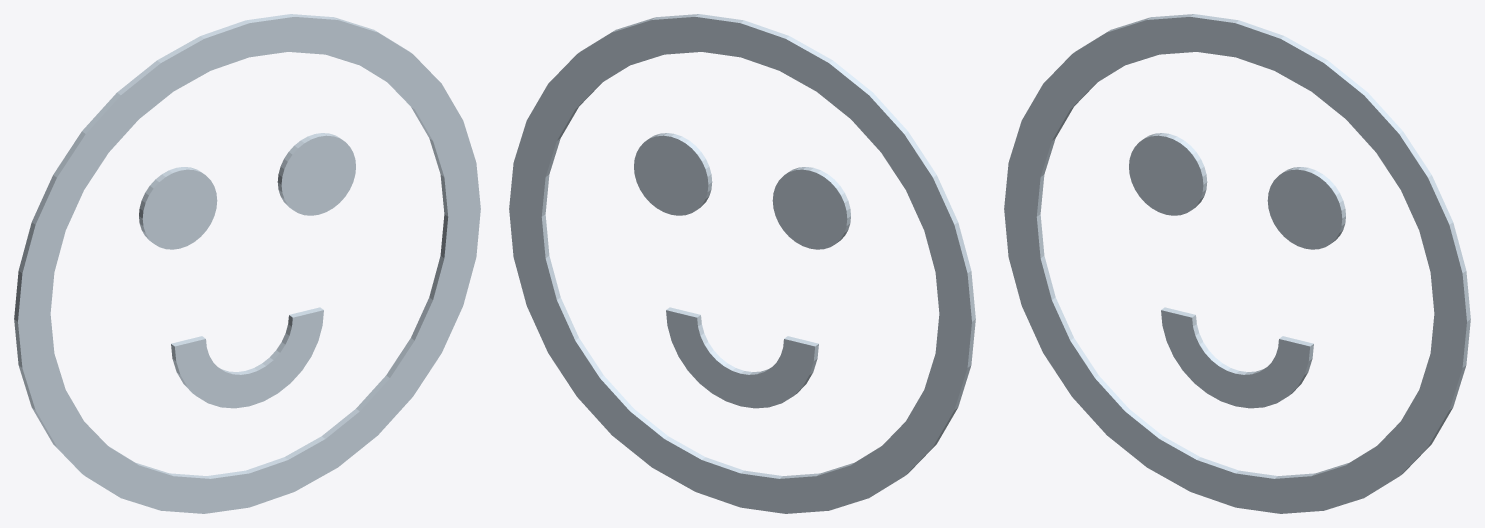
File: Happy_Face_3D_Icon_04.fbx
3 views of the same model, side by side, from view 1: azimuth 30°, elevation 25°; view 2: azimuth 150°, elevation 25°; view 3: azimuth 330°, elevation 25° (orthographic).
Visible parts, largest first — view 1: Happy_Face_3D_Icon_04; view 2: Happy_Face_3D_Icon_04; view 3: Happy_Face_3D_Icon_04.
Part boxes in pixels (x1=…): Happy_Face_3D_Icon_04: x1=14, y1=14, x2=480, y2=513; Happy_Face_3D_Icon_04: x1=509, y1=14, x2=975, y2=513; Happy_Face_3D_Icon_04: x1=1004, y1=14, x2=1470, y2=513.
Bounding box in the file's own units: 139 × 139 × 2.
